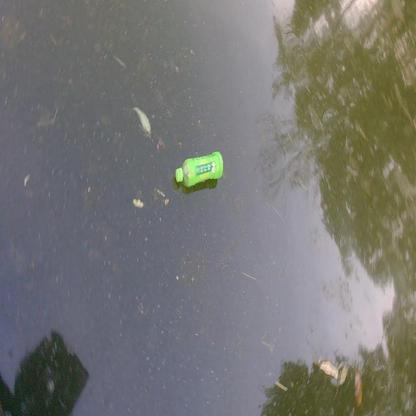plastic bottle: (174, 152, 223, 187)
